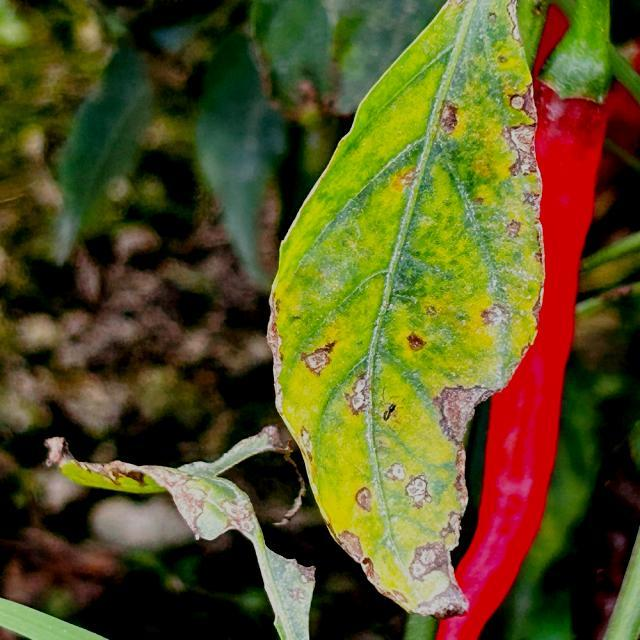Bercak Daun Serkospora: (266, 0, 550, 620)
